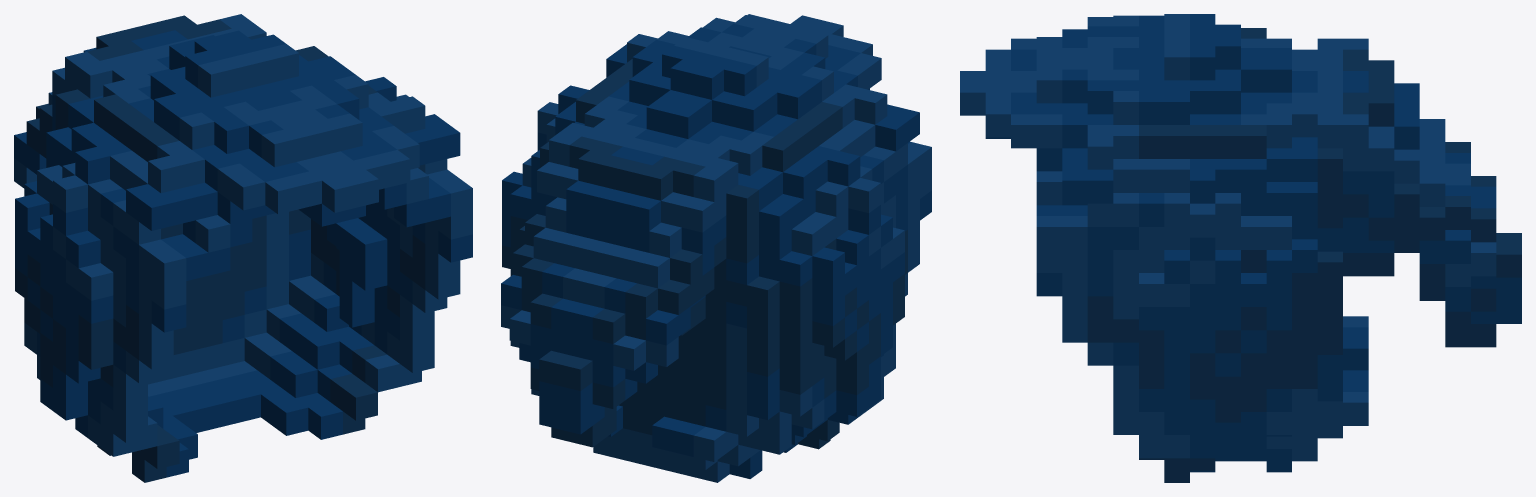
Rendered from yajin_male_hair.glb.
3 renders of one model, left to right at view 1: azimuth 30°, elevation 25°; view 2: azimuth 150°, elevation 25°; view 3: azimuth 270°, elevation 25°, orthographic. The views are drawn at different scales.
Parts seen in each view (by area): view 1: Helmet; view 2: Helmet; view 3: Helmet.
Part boxes in pixels (box(x1,y1,x2,y2)): Helmet: box(14, 14, 472, 482); Helmet: box(501, 14, 931, 482); Helmet: box(960, 14, 1521, 482).
Bounding box in the file's own units: 0.6949 × 0.7383 × 0.9555.
Materials: 1 (1 with a texture image).
